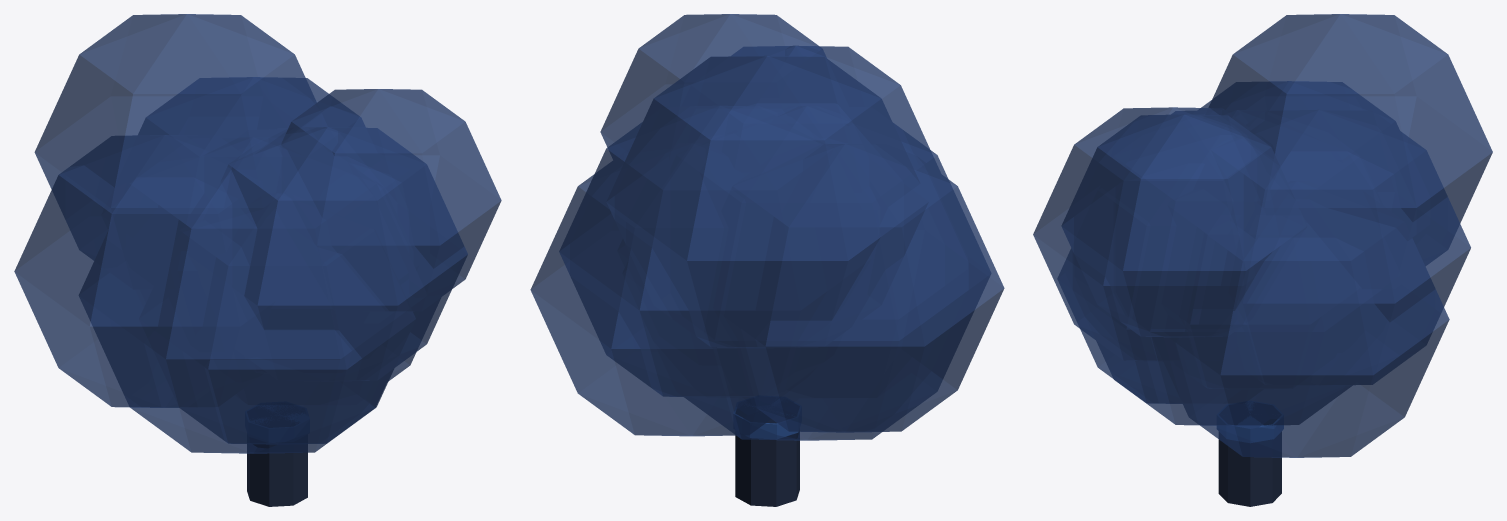
The model's file is ink_cloud.glb.
3 views of the same model, side by side, from view 1: azimuth 30°, elevation 25°; view 2: azimuth 150°, elevation 25°; view 3: azimuth 270°, elevation 25° (orthographic). The views are drawn at different scales.
Visible parts, largest first — view 1: cloud_4, cloud_2, cloud_5, cloud_6, cloud_1, cloud_3, cloud_7, canister, cloud_8; view 2: cloud_6, cloud_5, cloud_7, cloud_4, cloud_8, cloud_1, cloud_2, canister; view 3: cloud_8, cloud_7, cloud_6, cloud_2, cloud_1, cloud_4, cloud_3, cloud_5, canister, cloud_0, canister_band.
Boxes of the visible parts, x1,y1,x2,y2 form: cloud_4: (79,137,425,453); cloud_2: (222,127,467,380); cloud_5: (14,135,256,407); cloud_6: (34,14,326,289); cloud_1: (281,89,501,311); cloud_3: (139,231,415,444); cloud_7: (102,77,365,228); canister: (247,444,307,506); cloud_8: (240,130,440,404); cloud_6: (606,55,928,347); cloud_5: (740,144,1004,432); cloud_7: (559,106,826,397); cloud_4: (623,106,990,440); cloud_8: (530,154,770,436); cloud_1: (600,14,826,159); cloud_2: (731,45,939,171); canister: (735,409,799,506); cloud_8: (1164,193,1449,457); cloud_7: (1243,110,1470,385); cloud_6: (1205,14,1492,288); cloud_2: (1033,107,1275,360); cloud_1: (1061,114,1303,337); cloud_4: (1096,110,1381,425); cloud_3: (1058,249,1261,403); cloud_5: (1199,81,1399,130); canister: (1218,419,1281,506); cloud_0: (1184,309,1296,388); canister_band: (1217,419,1283,442).
Bounding box in the file's own units: 1.08 × 1.28 × 1.16.
